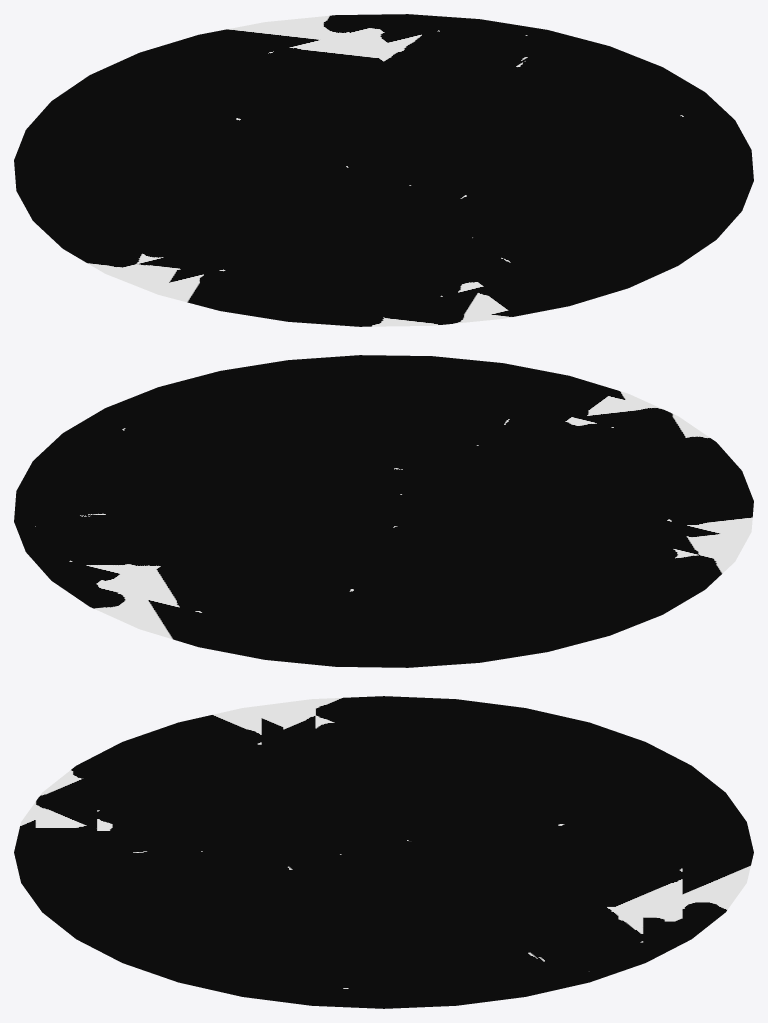
Rendered from CrackEffect.obj.
The picture shows the model from 3 angles, top to bottom: view 1: azimuth 30°, elevation 25°; view 2: azimuth 150°, elevation 25°; view 3: azimuth 270°, elevation 25°; orthographic projection.
Visible parts, largest first — view 1: 円; view 2: 円; view 3: 円.
Part boxes in pixels (x1,y1,x2,y2): 円: (14, 14, 753, 326); 円: (14, 355, 753, 667); 円: (14, 696, 753, 1008).
Bounding box in the file's own units: 2 × 0 × 2.
1 material, 1 textured.
